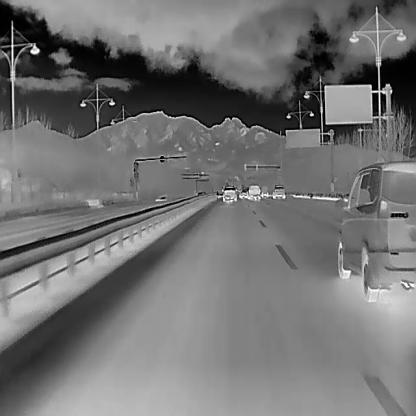car: (336, 159, 415, 303), (220, 186, 237, 203), (246, 183, 261, 200), (272, 184, 285, 199), (239, 189, 248, 199)
